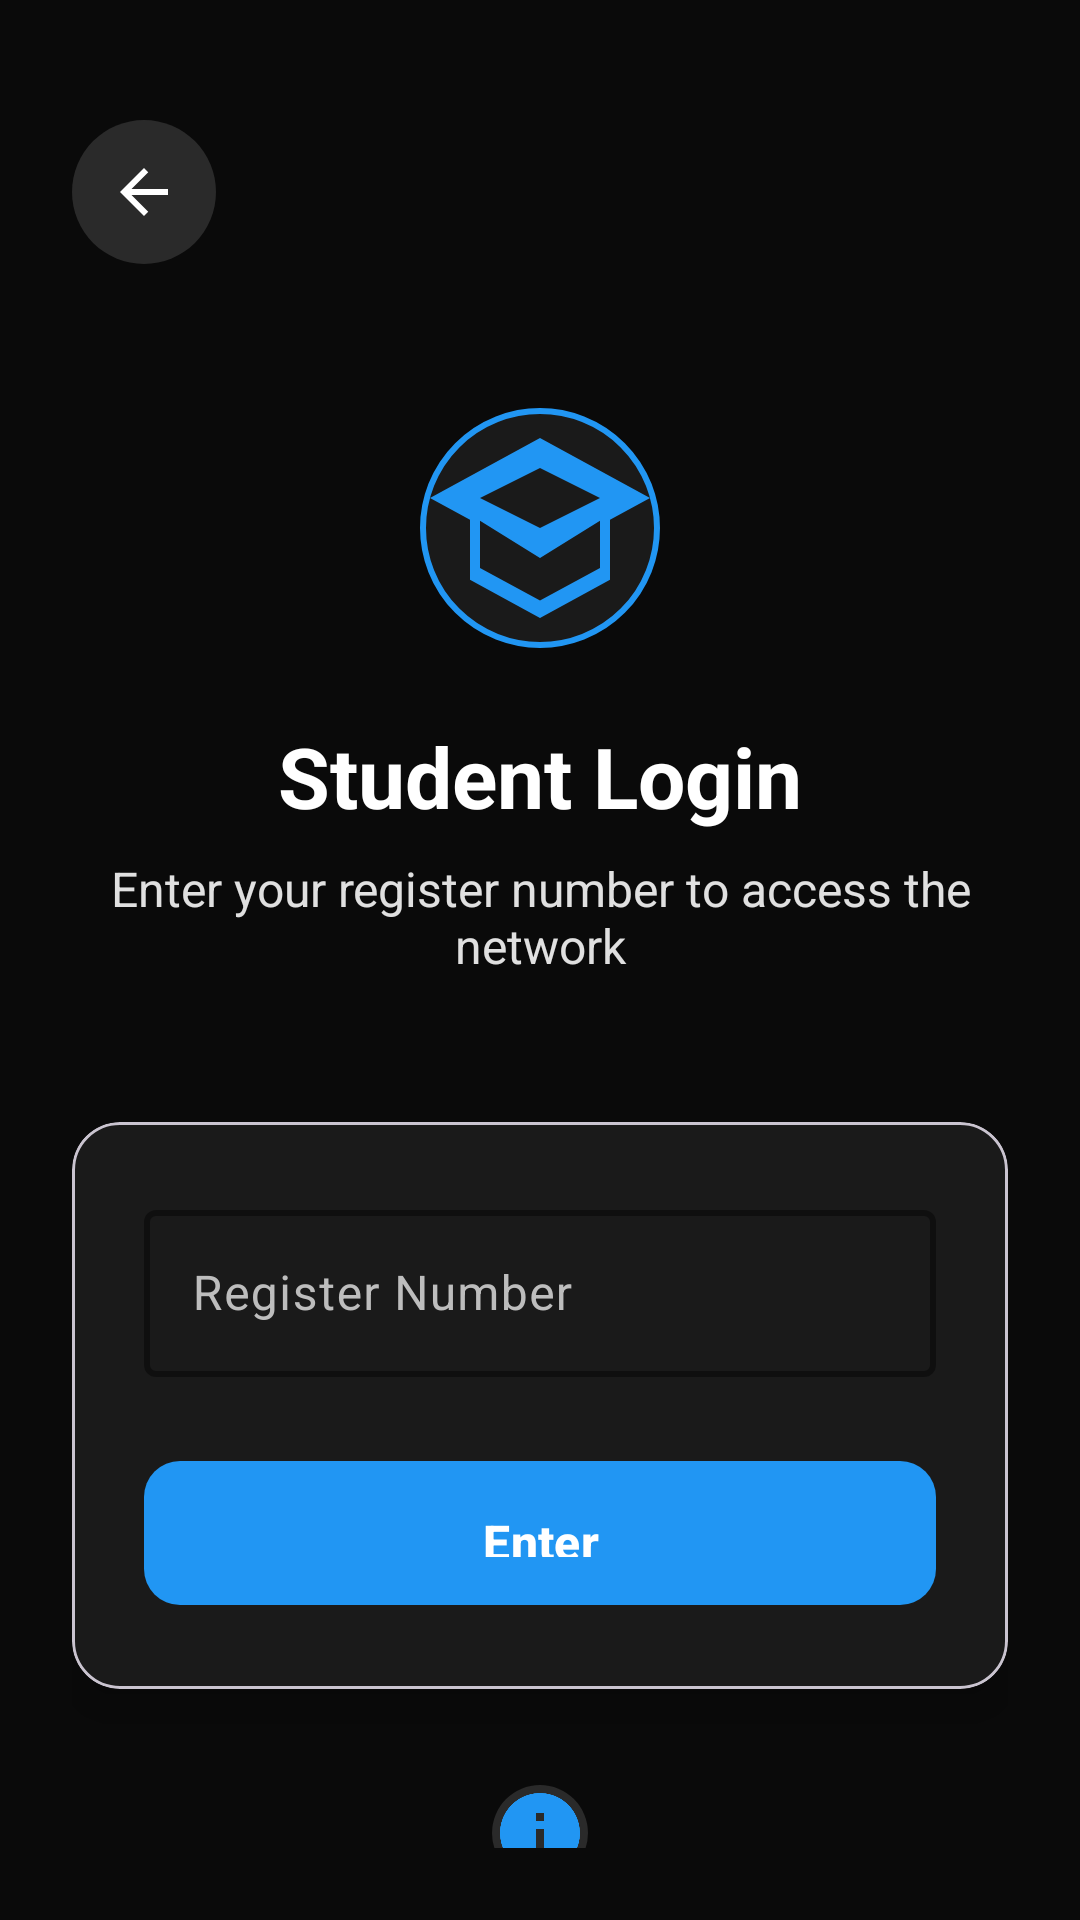

Icons on this 1080x1920 Android screen, each with its box as (x1, y1, x2, y2):
Back: (72, 120, 216, 264)
